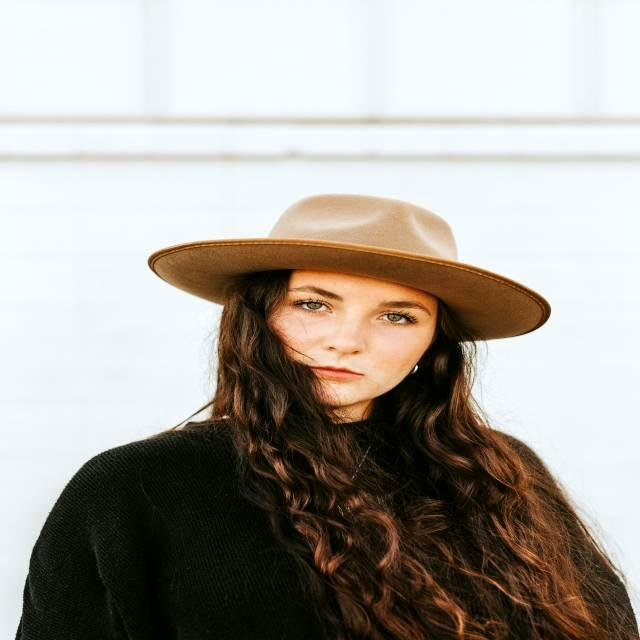no_hard_hat: (148, 195, 550, 340)
person: (17, 195, 637, 640)
